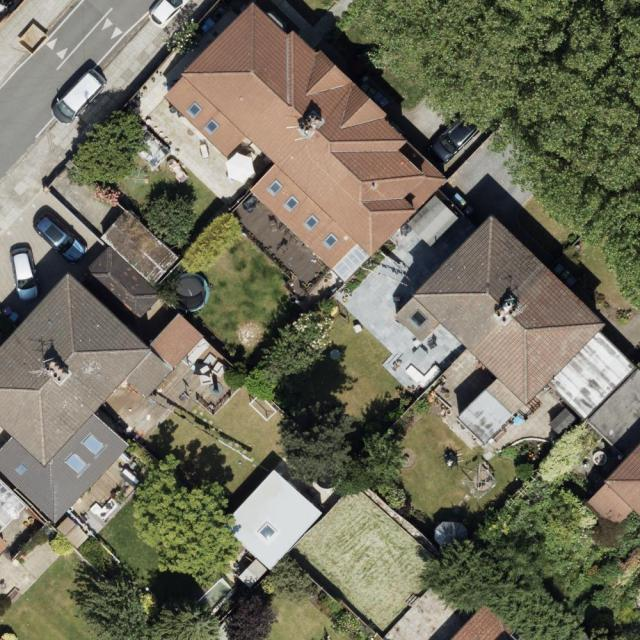roof: (162, 2, 452, 286), (394, 216, 640, 526), (0, 208, 203, 523), (222, 469, 323, 570), (450, 606, 513, 640)
skylight: (63, 449, 91, 478), (81, 432, 107, 456), (257, 521, 277, 543), (409, 308, 429, 328), (283, 194, 299, 212), (321, 231, 337, 248), (186, 100, 203, 116), (16, 461, 32, 477), (304, 215, 321, 230), (206, 119, 223, 134), (270, 177, 284, 195)
